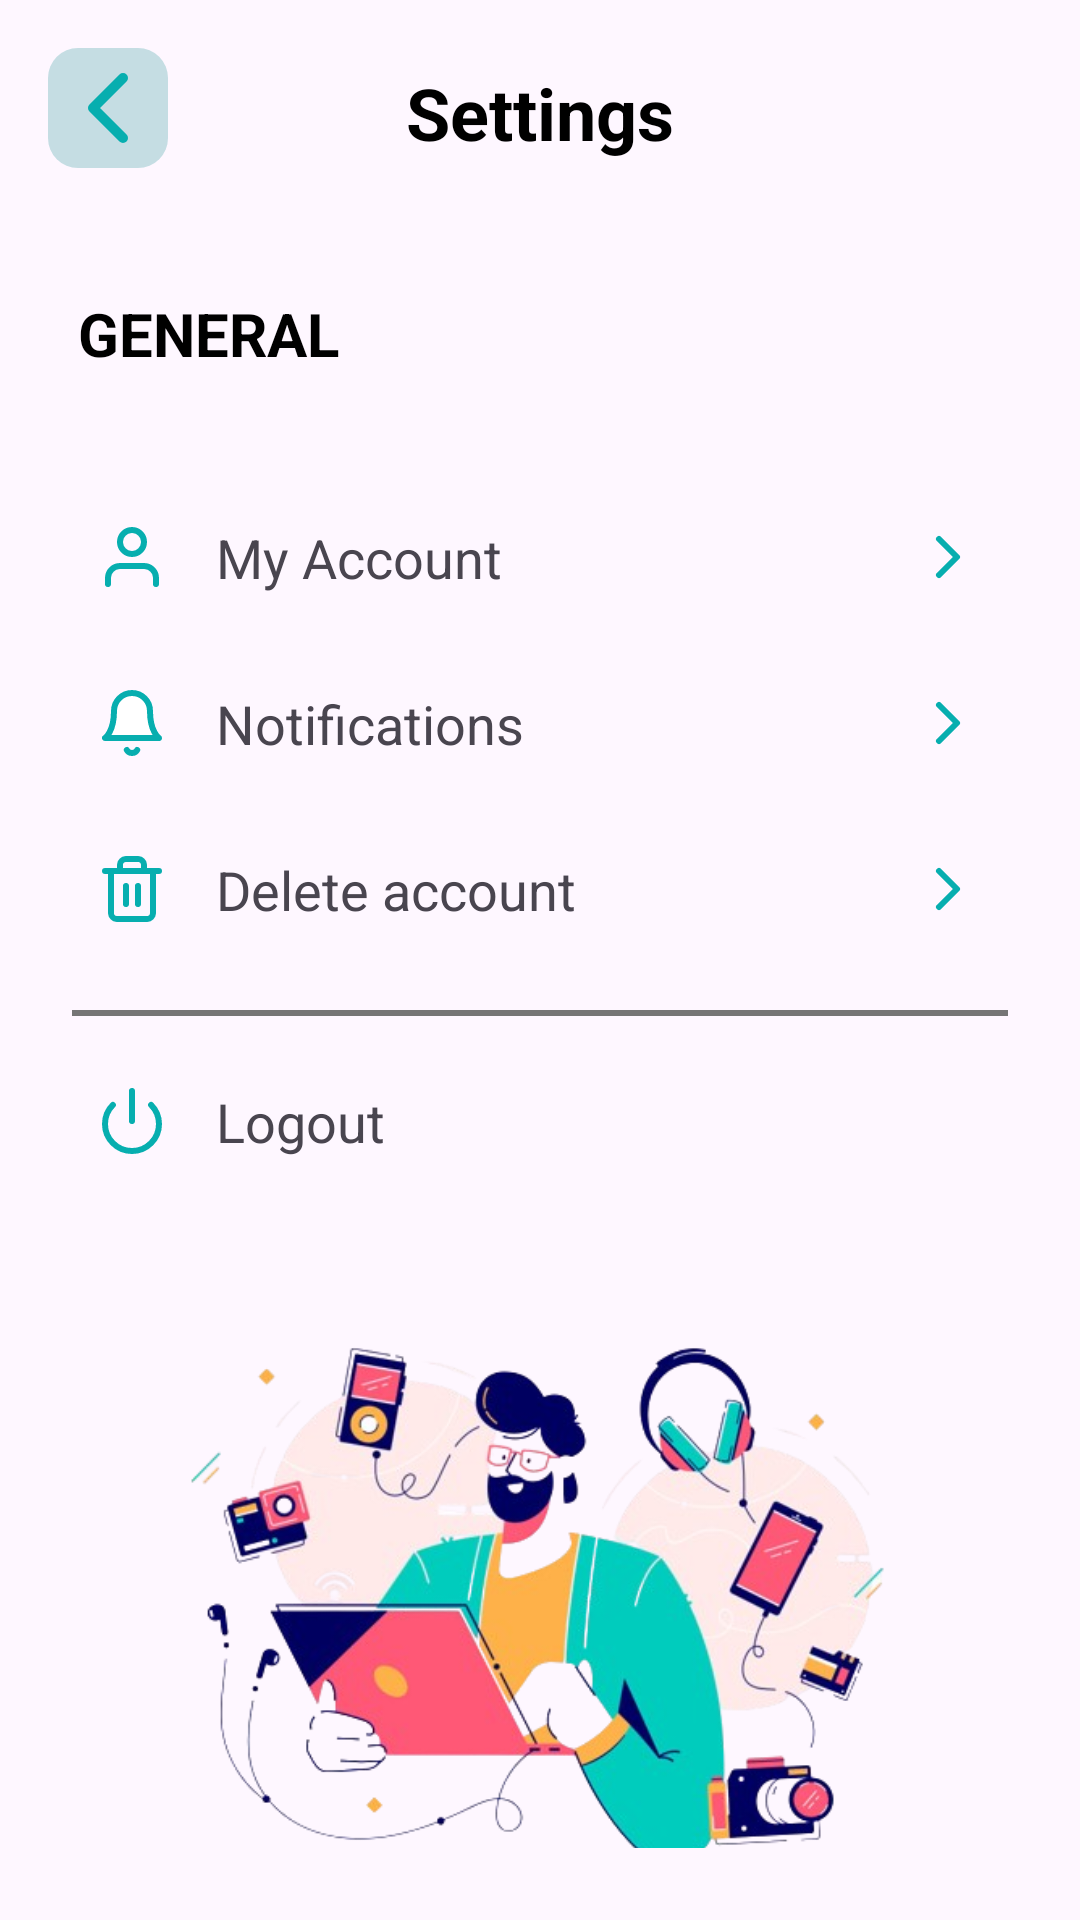

Icon bounding boxes for this 1080 x 1920 phone screenshot, format box=[x1, y1, x2, y2]:
chevron left: box=[48, 48, 168, 168]
